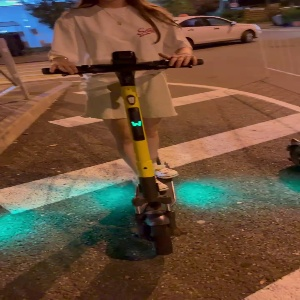human on a scooter: (40, 1, 205, 255)
